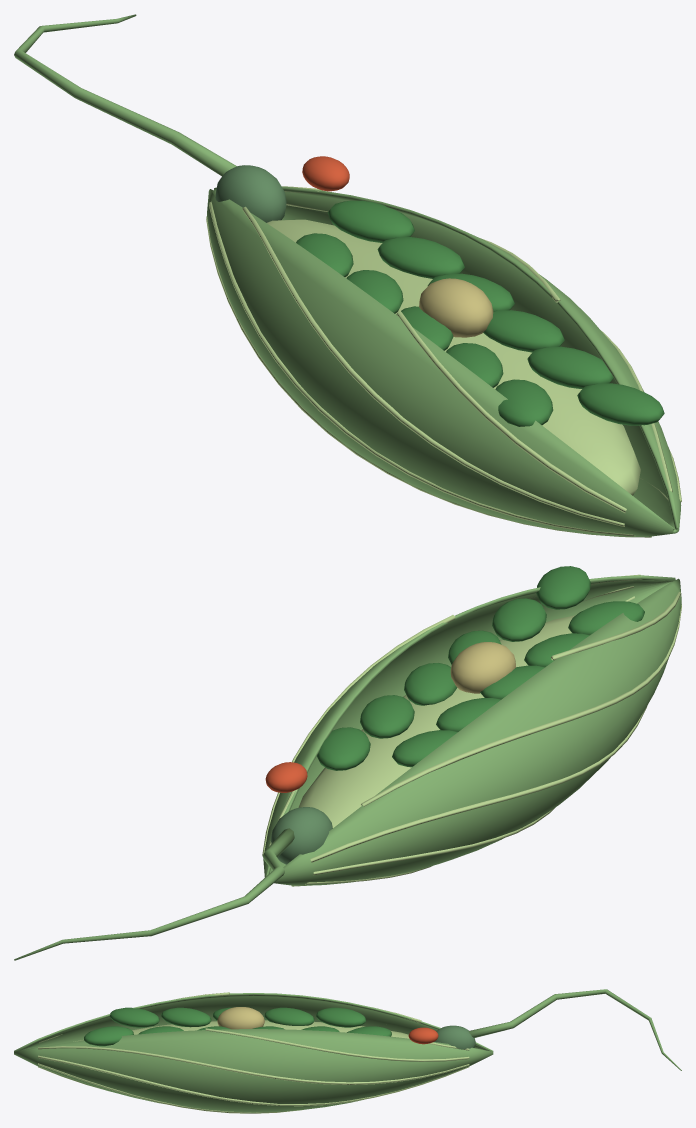
The model's file is Euglena.fbx.
The picture shows the model from 3 angles, top to bottom: view 1: azimuth 30°, elevation 25°; view 2: azimuth 150°, elevation 25°; view 3: azimuth 270°, elevation 25°; orthographic projection. The views are drawn at different scales.
Visible parts, largest first — view 1: Euglena_Pellicle, Euglena_Chloroplasts, Euglena_Cytoplasm, Euglena_Nucleus, Euglena_Reservoir, Euglena_Eyespot; view 2: Euglena_Pellicle, Euglena_Chloroplasts, Euglena_Cytoplasm, Euglena_Nucleus, Euglena_Reservoir, Euglena_Eyespot; view 3: Euglena_Pellicle, Euglena_Cytoplasm, Euglena_Chloroplasts, Euglena_Nucleus, Euglena_Reservoir, Euglena_Eyespot.
Boxes of the visible parts, <box> form: Euglena_Pellicle: <box>14,14,681,536</box>; Euglena_Chloroplasts: <box>296,200,664,426</box>; Euglena_Cytoplasm: <box>206,186,681,537</box>; Euglena_Nucleus: <box>419,278,493,337</box>; Euglena_Reservoir: <box>215,165,286,222</box>; Euglena_Eyespot: <box>302,156,349,191</box>; Euglena_Pellicle: <box>14,575,681,960</box>; Euglena_Chloroplasts: <box>317,566,644,770</box>; Euglena_Cytoplasm: <box>262,574,681,886</box>; Euglena_Nucleus: <box>450,642,515,693</box>; Euglena_Reservoir: <box>271,807,332,864</box>; Euglena_Eyespot: <box>265,762,307,792</box>; Euglena_Pellicle: <box>14,989,681,1112</box>; Euglena_Cytoplasm: <box>37,992,469,1113</box>; Euglena_Chloroplasts: <box>84,1007,391,1046</box>; Euglena_Nucleus: <box>217,1007,264,1029</box>; Euglena_Reservoir: <box>434,1025,475,1049</box>; Euglena_Eyespot: <box>408,1027,438,1044</box>.
Bounding box in the file's own units: 0.2236 × 0.1578 × 1.
